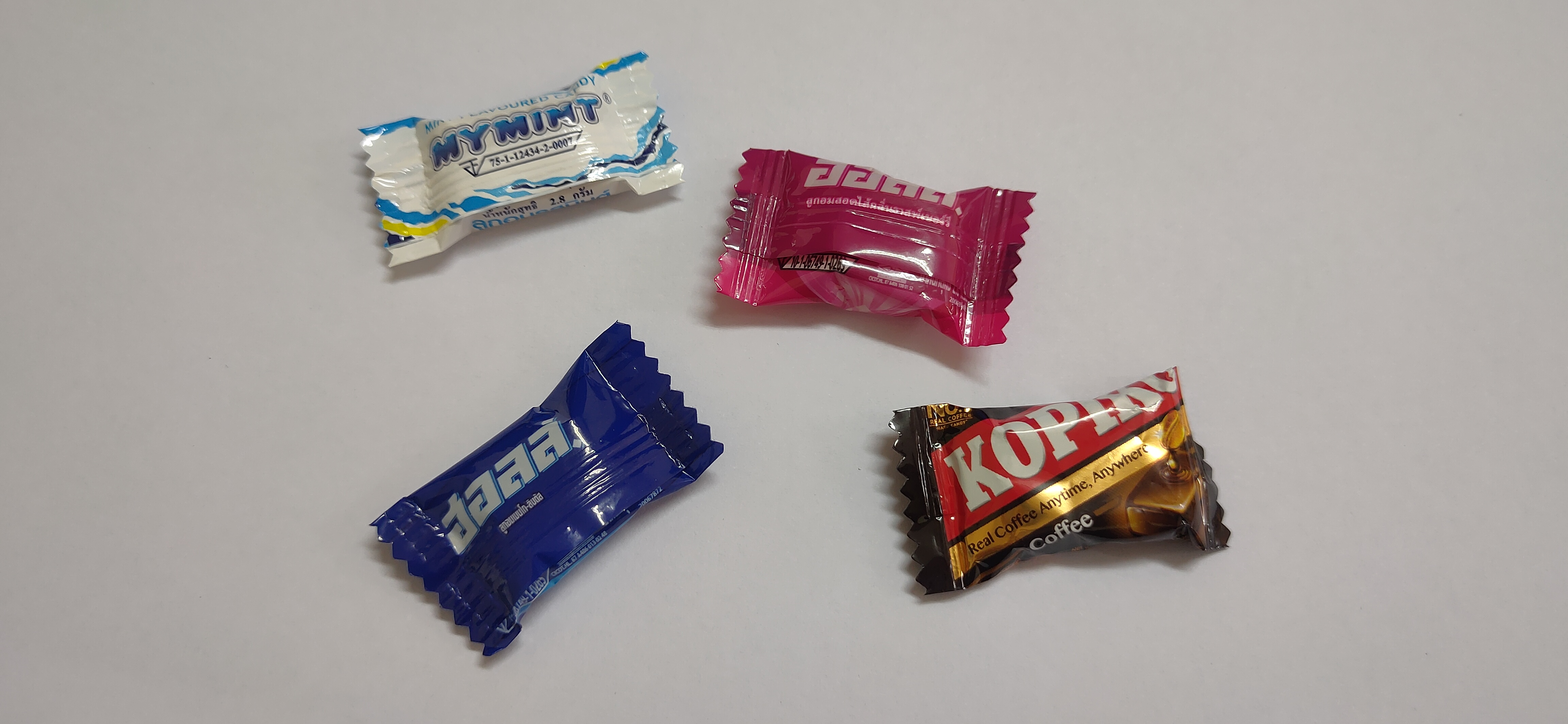plastic: (358, 301, 763, 687), (338, 28, 698, 274), (882, 372, 1233, 598), (725, 123, 1048, 364)
